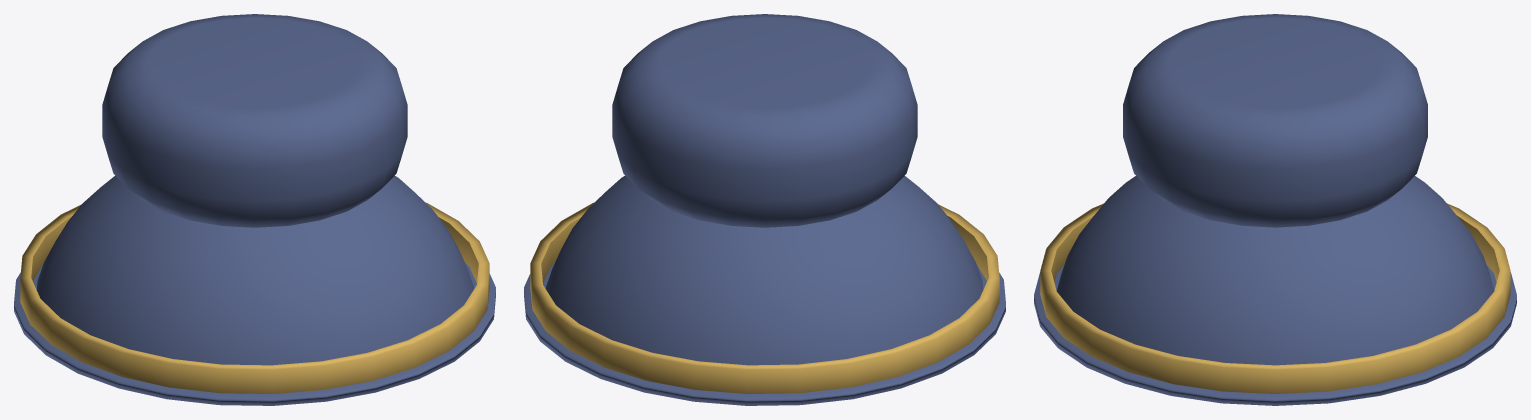
The model's file is conductors_cap.glb.
3 renders of one model, left to right at view 1: azimuth 30°, elevation 25°; view 2: azimuth 150°, elevation 25°; view 3: azimuth 270°, elevation 25°, orthographic.
Parts seen in each view (by area): view 1: conductors_cap_Head; view 2: conductors_cap_Head; view 3: conductors_cap_Head.
Part boxes in pixels (x1=…): conductors_cap_Head: x1=14, y1=14, x2=495, y2=405; conductors_cap_Head: x1=524, y1=14, x2=1005, y2=405; conductors_cap_Head: x1=1034, y1=14, x2=1516, y2=405.
Bounding box in the file's own units: 0.76 × 0.418 × 0.76.
